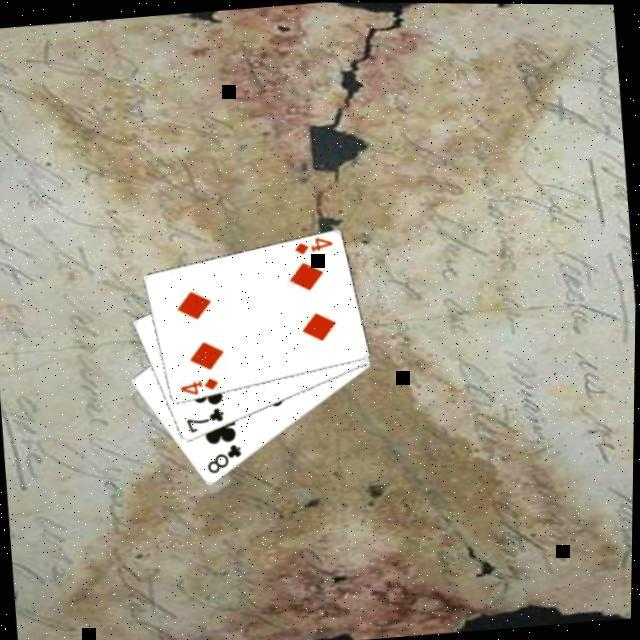4D: (178, 372, 224, 396), (292, 232, 337, 256)
7C: (184, 402, 230, 434)
8C: (205, 438, 248, 474)
